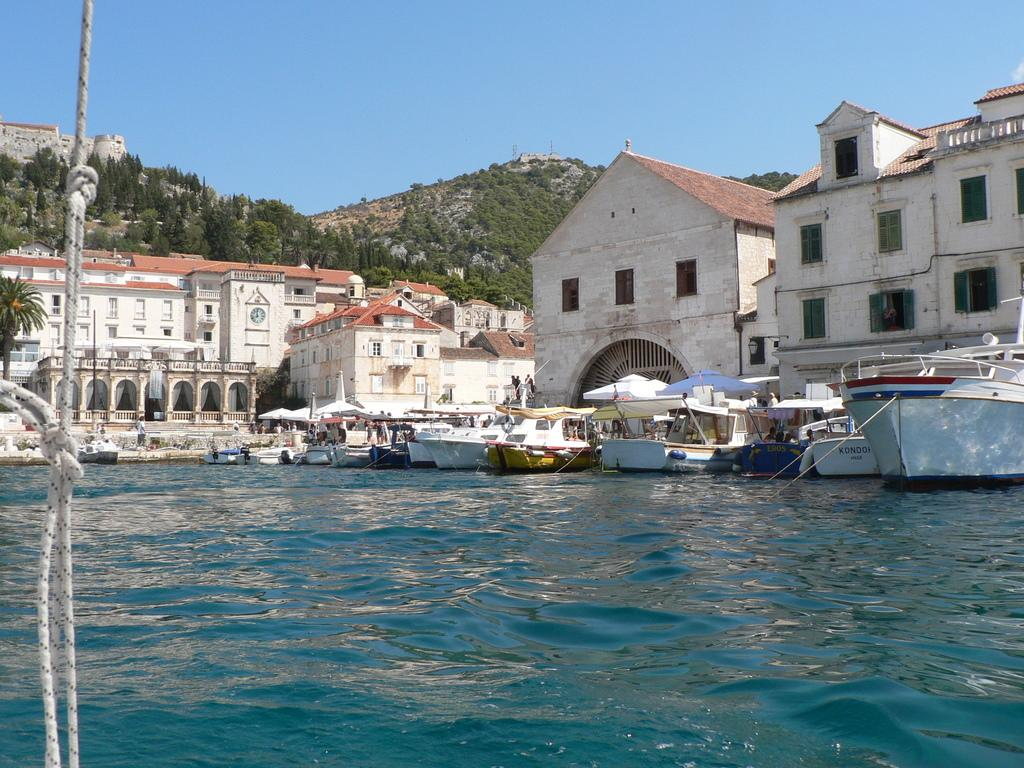PassengerShip: (819, 282, 1023, 484)
